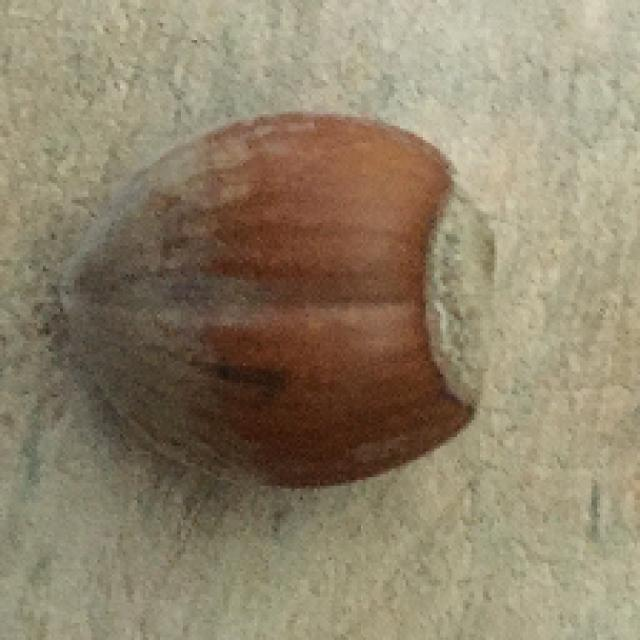QualityHazelnut: (59, 110, 498, 490)
